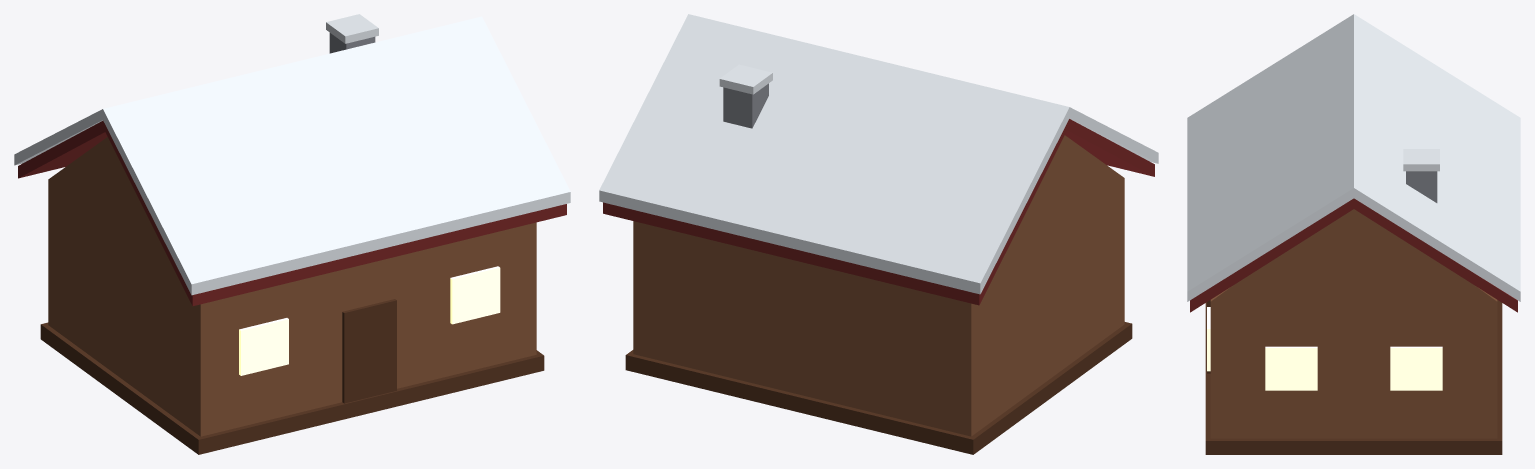
File: chalet.glb
The picture shows the model from 3 angles, left to right: view 1: azimuth 30°, elevation 25°; view 2: azimuth 150°, elevation 25°; view 3: azimuth 270°, elevation 25°; orthographic projection. The views are drawn at different scales.
Visible parts, largest first — view 1: chalet; view 2: chalet; view 3: chalet.
Boxes of the visible parts, x1,y1,x2,y2 form: chalet: [14, 14, 570, 454]; chalet: [599, 14, 1158, 454]; chalet: [1187, 14, 1520, 454].
Bounding box in the file's own units: 7.9 × 5.82 × 6.4.
2 materials, 2 textured.
